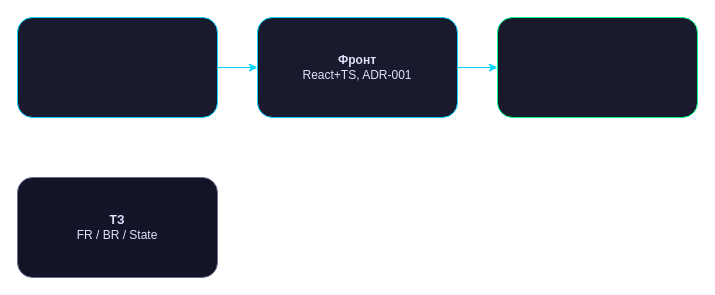
Image size: 715x295. Some labels were removed from this diagram. The shapes that lost their labels are listed below. From the top down, each one's centre as x and y in pixels, then its label:
At point 117,67: "KPI 91% → 99% ДУКО / ЭДО".
At point 597,67: "Демо бэк Spring+PG, ADR-004".
